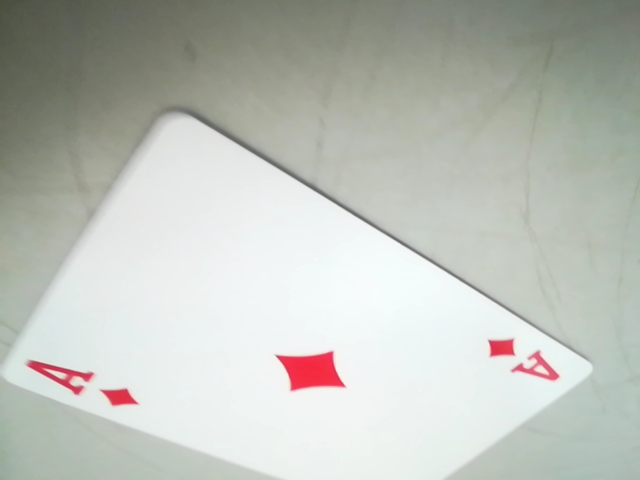fk a: (10, 353, 150, 410), (484, 328, 569, 390)
